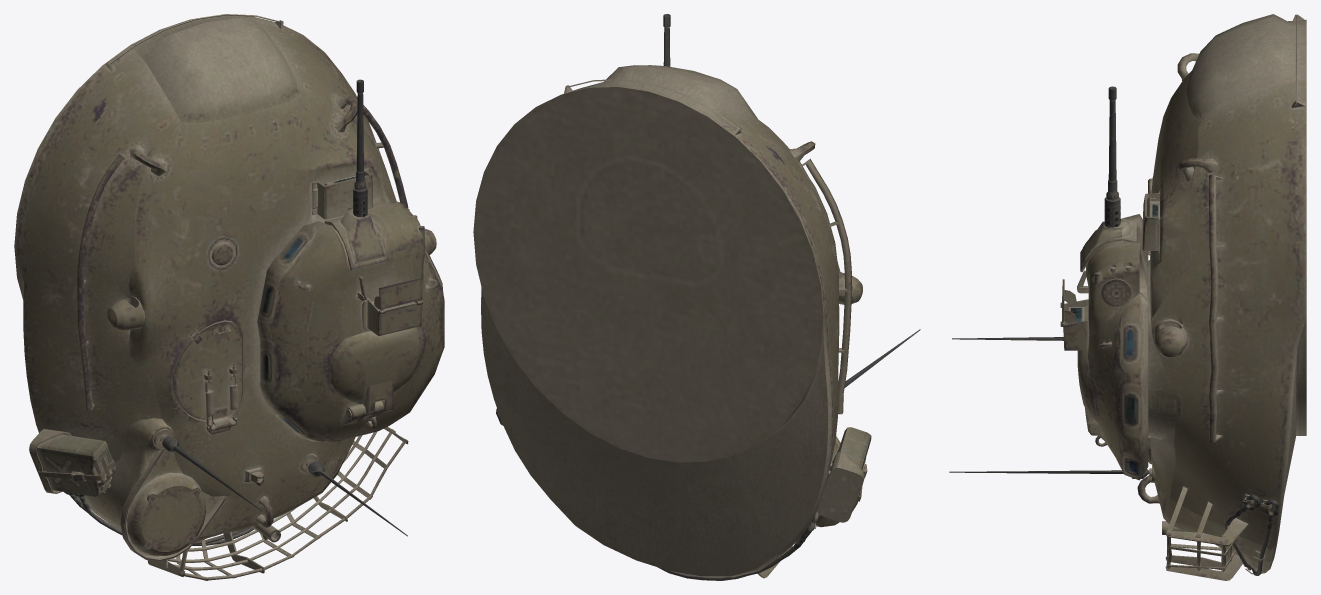
The model's file is Turret_01.glb.
3 renders of one model, left to right at view 1: azimuth 30°, elevation 25°; view 2: azimuth 150°, elevation 25°; view 3: azimuth 270°, elevation 25°, orthographic. The views are drawn at different scales.
Parts seen in each view (by area): view 1: set_0_group_0; view 2: set_0_group_0; view 3: set_0_group_0.
Part boxes in pixels (bbox=[...]): set_0_group_0: bbox=[14, 14, 444, 580]; set_0_group_0: bbox=[473, 14, 920, 580]; set_0_group_0: bbox=[949, 14, 1306, 580].
Bounding box in the file's own units: 2.6 × 3.53 × 2.13.
Materials: 1 (1 with a texture image).
